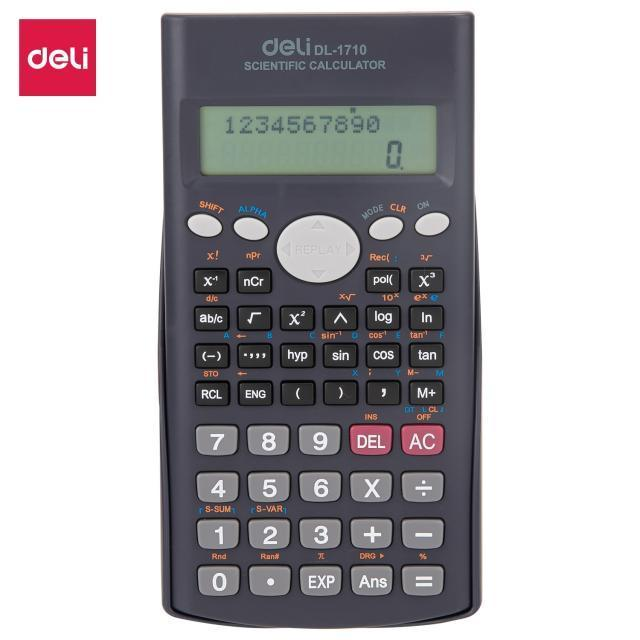Calculator: (154, 9, 483, 628)
